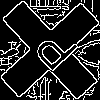P: (25, 25, 81, 81)
